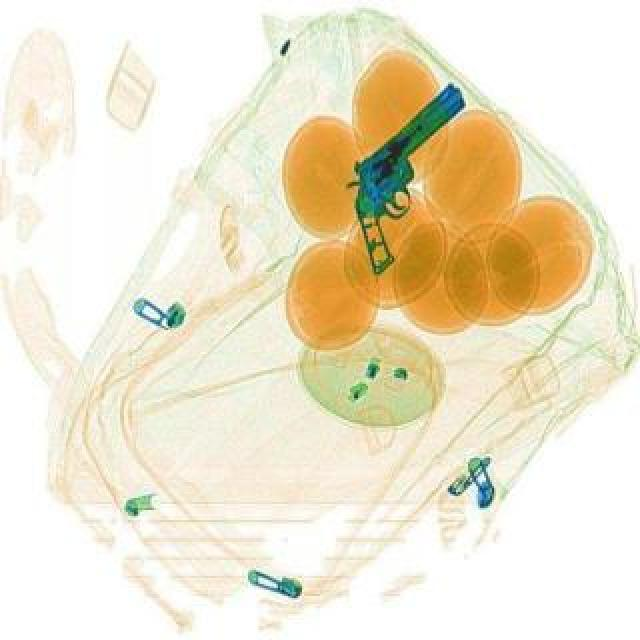gun: (302, 74, 522, 274)
